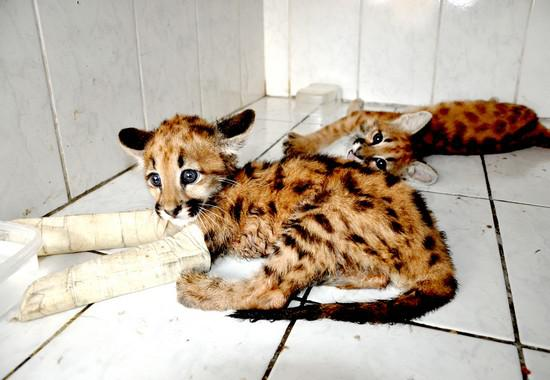OncaParda: (107, 108, 460, 329), (289, 91, 547, 181)
